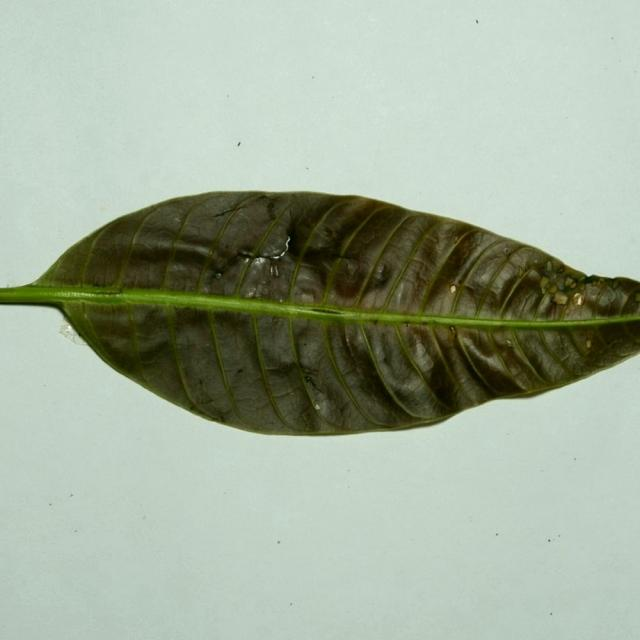Anthracnose: (245, 239, 301, 283), (236, 235, 292, 278), (540, 265, 594, 306), (211, 249, 250, 280), (58, 319, 89, 346), (263, 234, 290, 258), (302, 373, 326, 397), (209, 202, 244, 218), (576, 331, 595, 355), (311, 307, 349, 316), (372, 263, 388, 282), (581, 274, 604, 287), (448, 280, 466, 296), (237, 249, 255, 260), (451, 235, 462, 246)
Mango: (0, 191, 639, 440)
